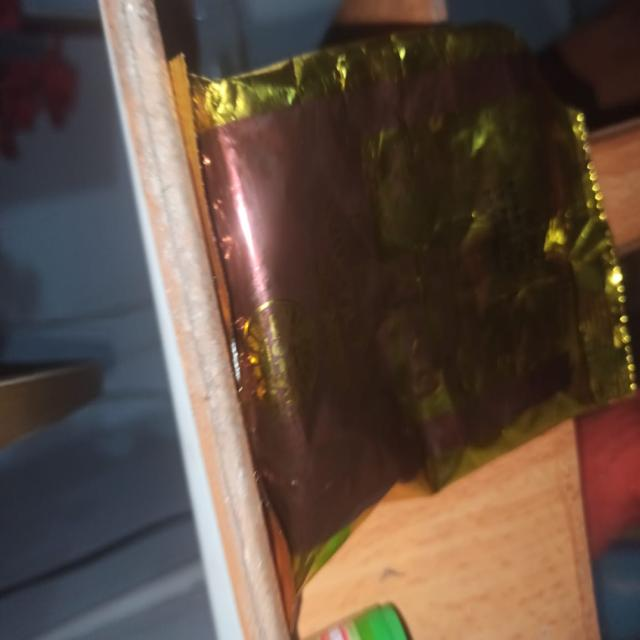Harischandra Coffee: (148, 8, 640, 564)
